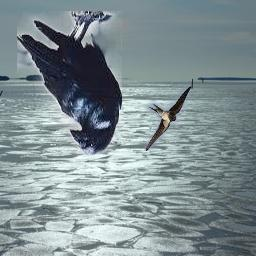Crow: (18, 12, 123, 157)
Swallow: (145, 85, 192, 152)
